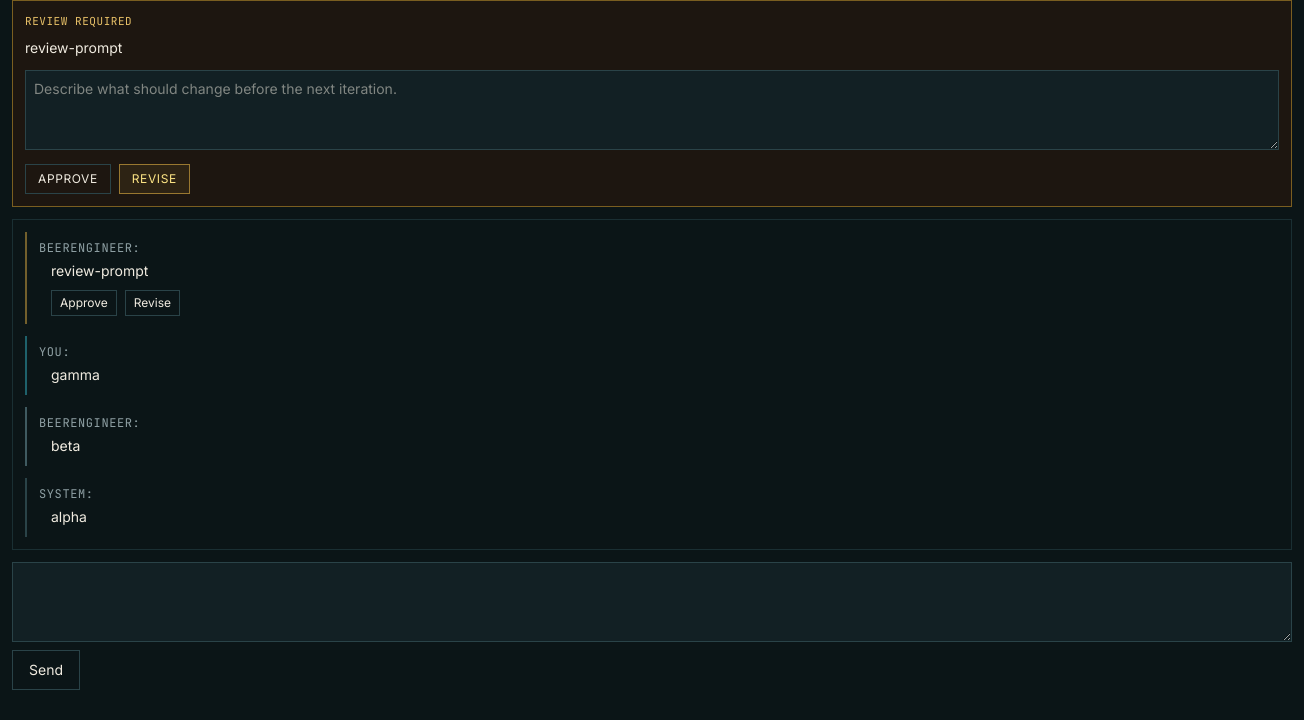
ChatPanel error handling › TC-5.9a: 4xx on /answer keeps draft, shows inline error, no new bubble
Type "draft-text" into the text box with test id "chat-textarea" at [652, 602], box [12,562,1292,642]
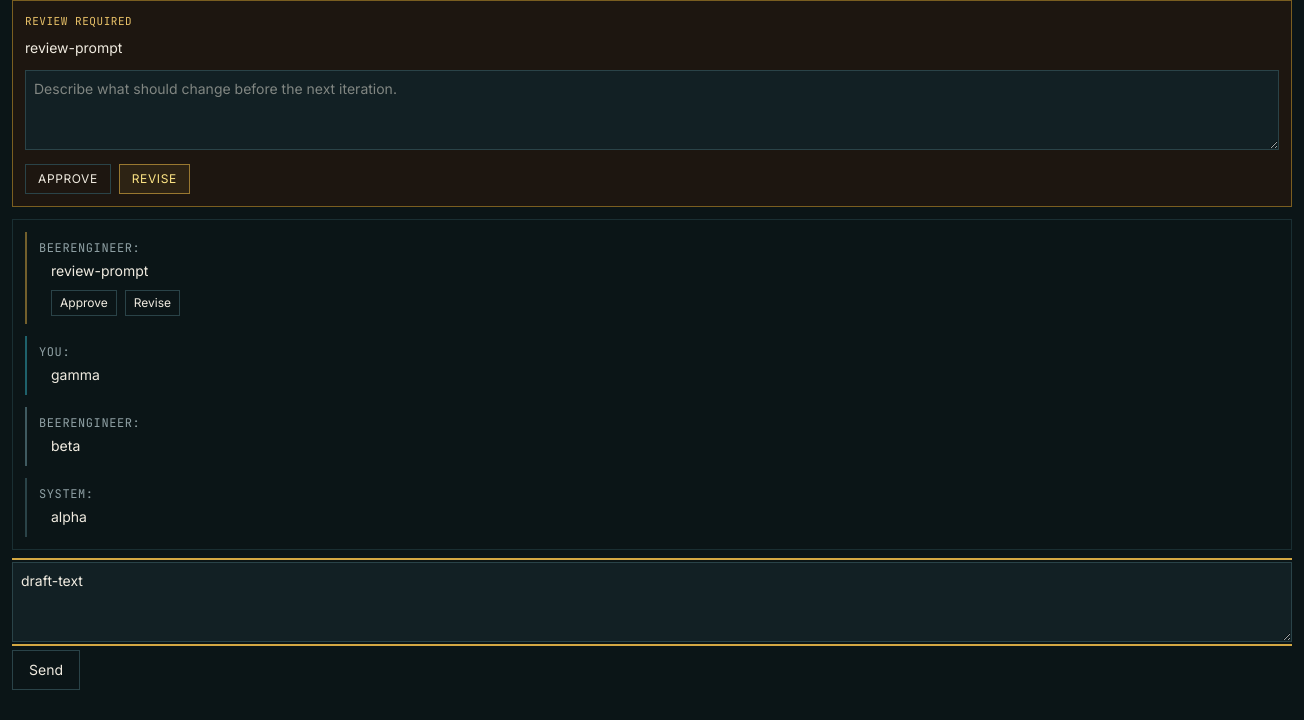
Click the button with test id "chat-review-approve" at [68, 178], box [25,164,111,194]
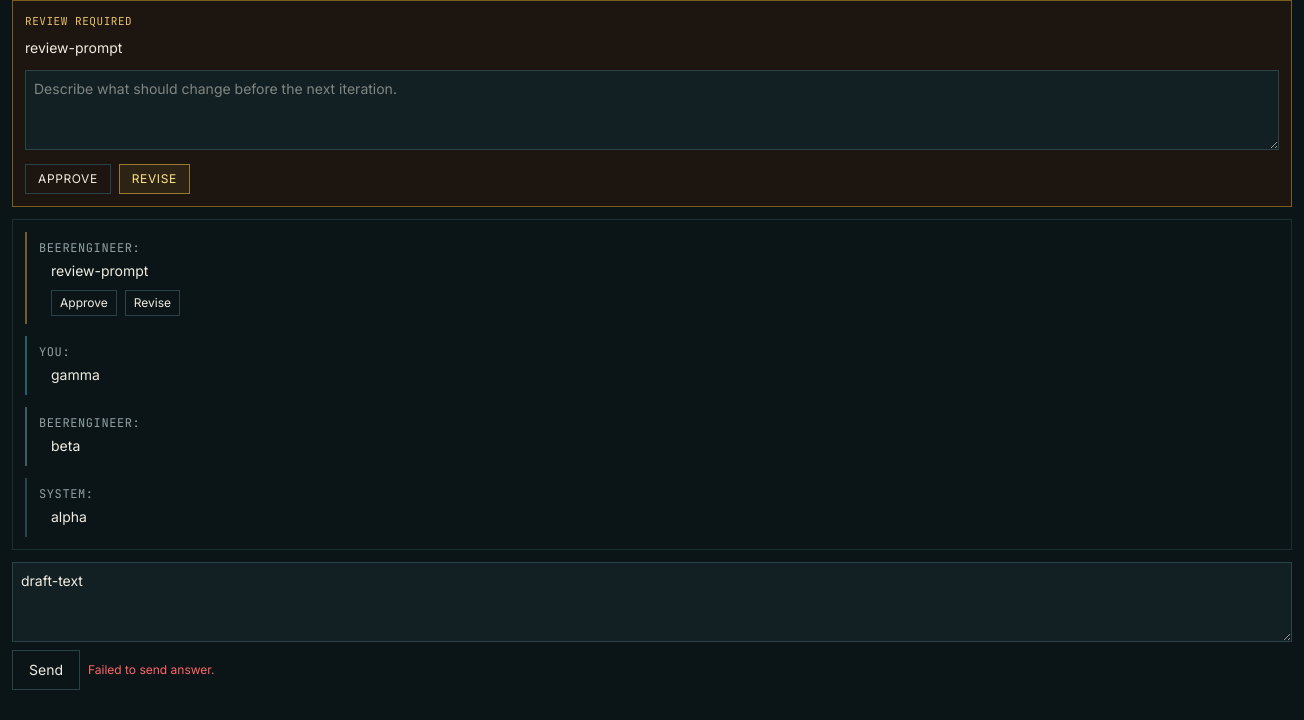
expect the number of list items with test id "chat-entry" is 4: met, box [25,232,1271,324]; [25,336,1271,395]; [25,407,1271,466]; [25,478,1271,537]
expect the message "Failed to send answer." is shown: met, box [88,662,215,678]
